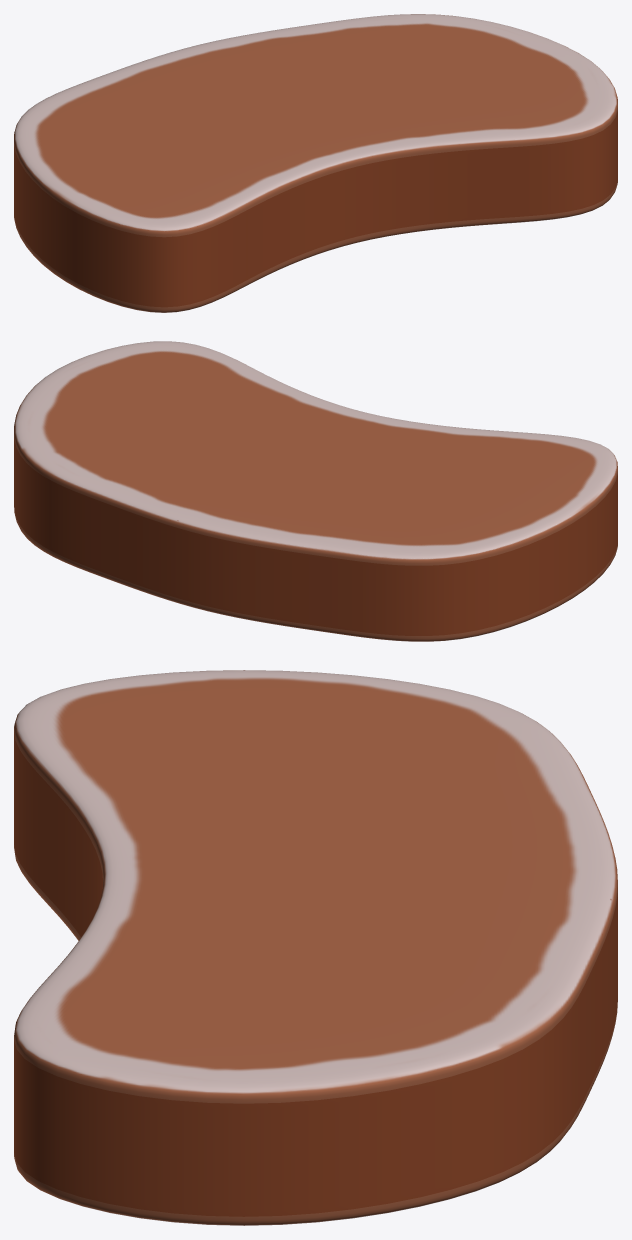
Rendered from MeatCut.fbx.
3 renders of one model, top to bottom at view 1: azimuth 30°, elevation 25°; view 2: azimuth 150°, elevation 25°; view 3: azimuth 270°, elevation 25°, orthographic. The views are drawn at different scales.
Visible parts, largest first — view 1: SM_MeatCut; view 2: SM_MeatCut; view 3: SM_MeatCut.
Boxes of the visible parts, left/top/right/bottom form: SM_MeatCut: left=14, top=14, right=617, bottom=312; SM_MeatCut: left=14, top=341, right=617, bottom=641; SM_MeatCut: left=14, top=670, right=617, bottom=1225.
Bounding box in the file's own units: 55.36 × 8.63 × 33.26.
